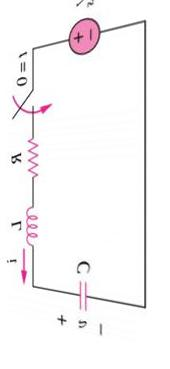inductor: (22, 193, 40, 252)
